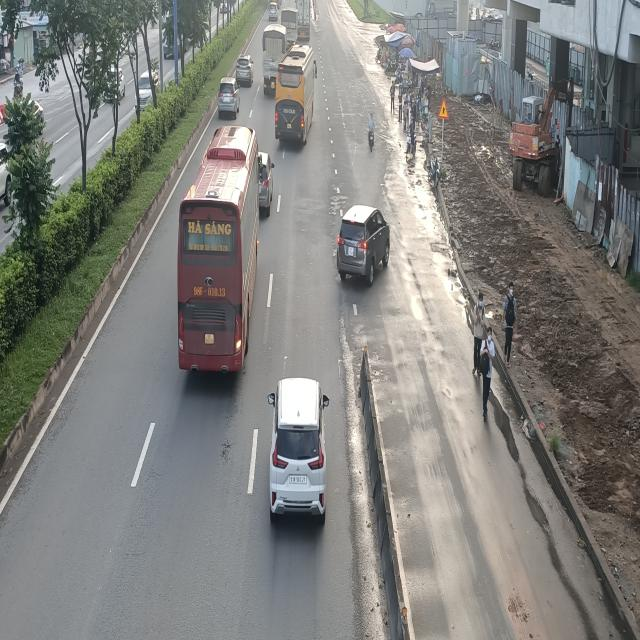car: (269, 376, 330, 522), (333, 205, 390, 285), (217, 78, 240, 119), (235, 55, 255, 88)
coach: (177, 126, 263, 375), (274, 46, 316, 146)
truck: (262, 26, 289, 94)
